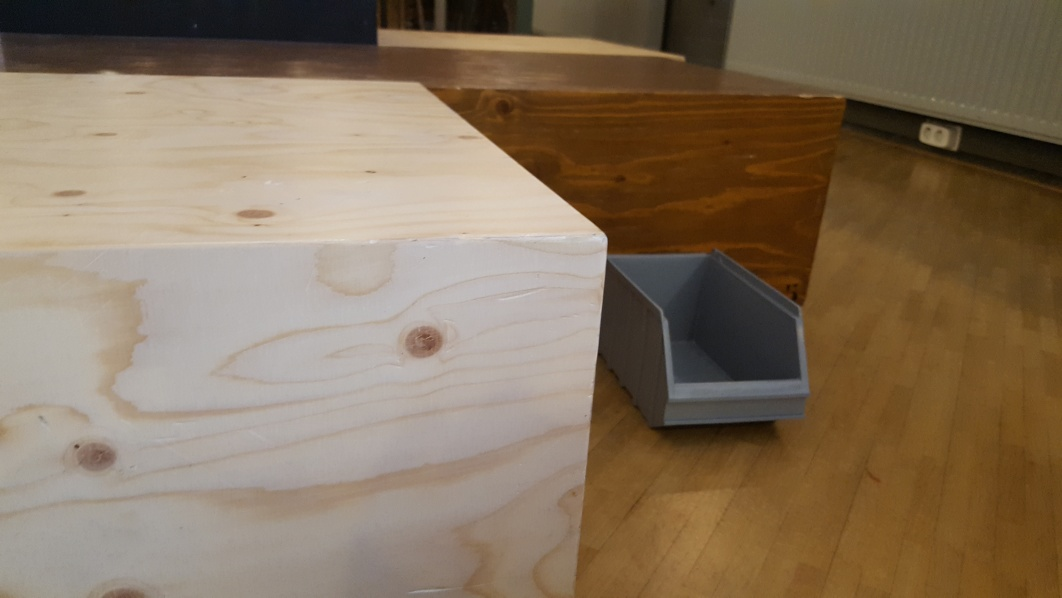tray: (604, 248, 811, 431)
